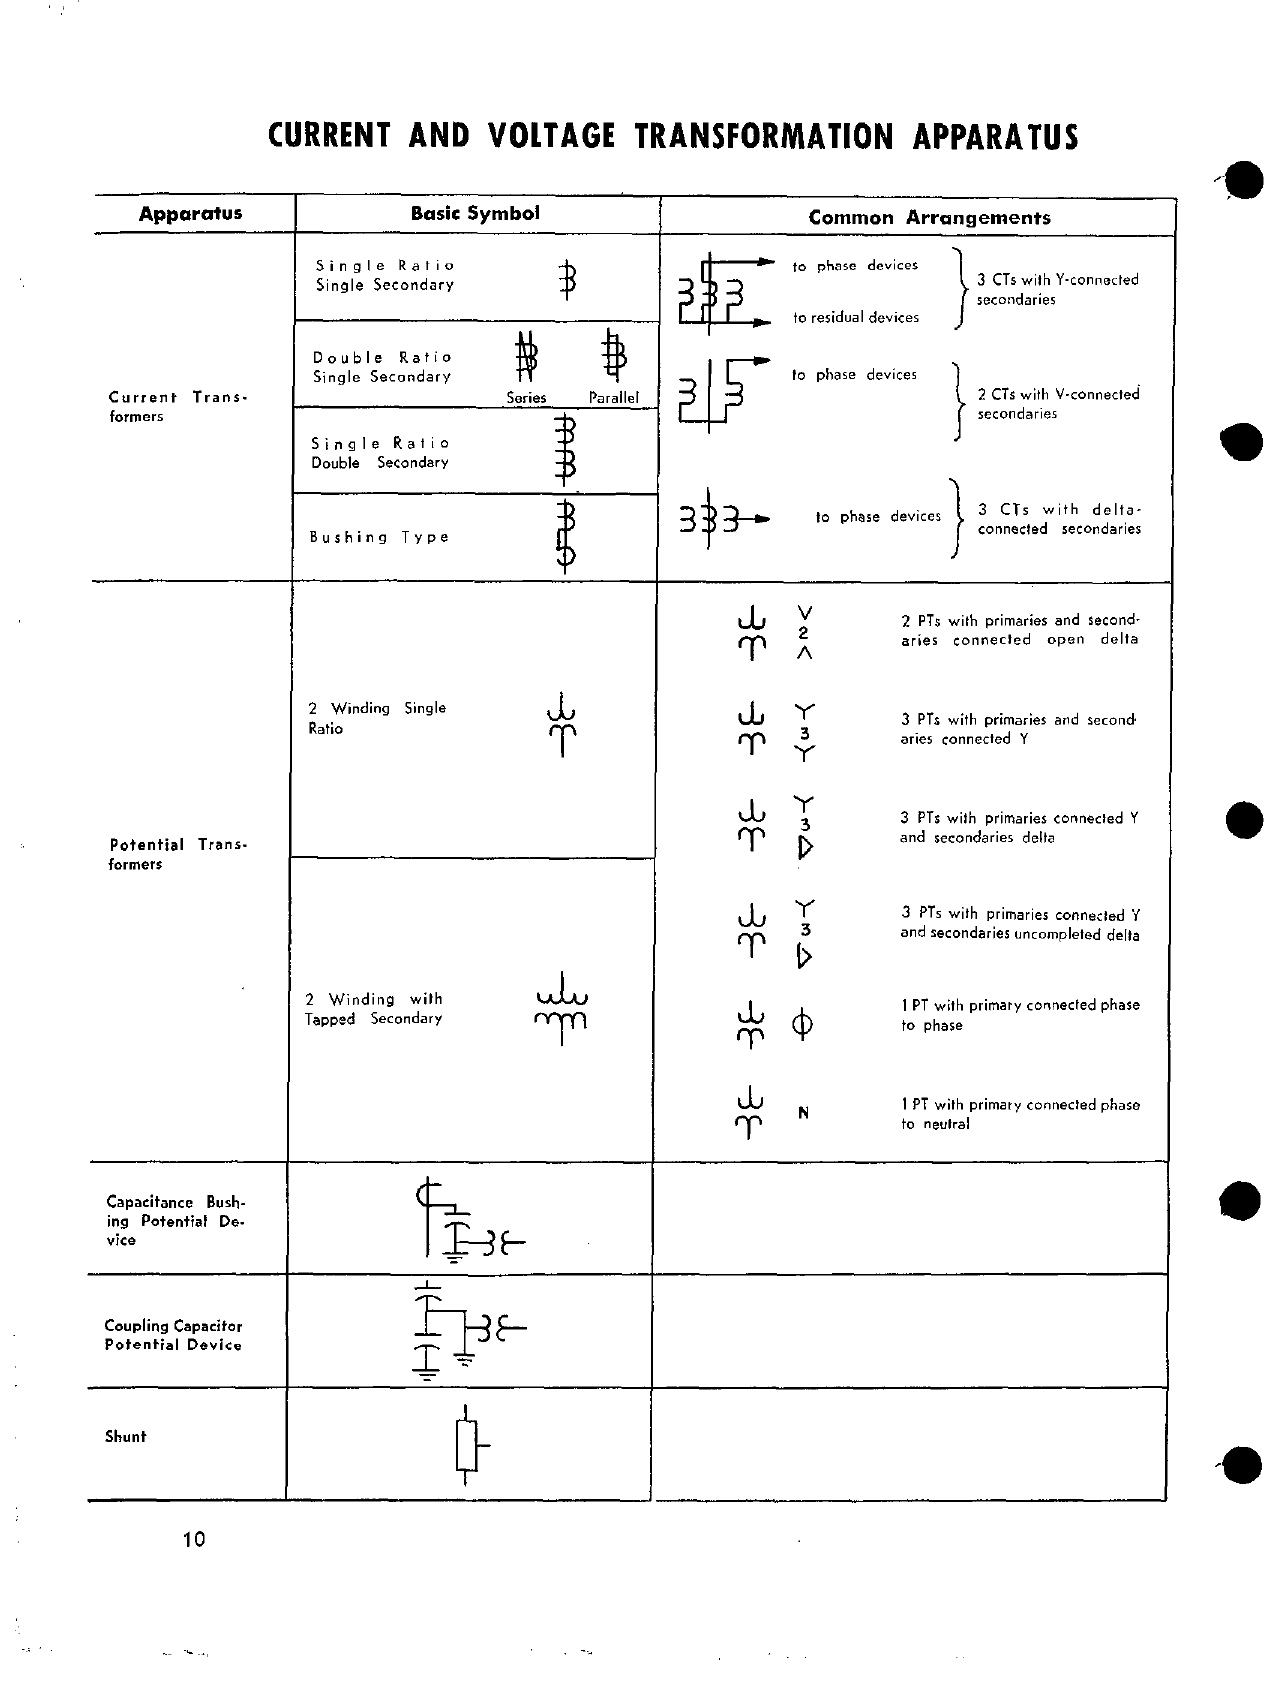ground: (411, 1355, 448, 1386), (442, 1351, 491, 1373), (438, 1243, 472, 1269)
transformer: (710, 883, 852, 982), (505, 948, 603, 1082), (712, 787, 839, 883), (725, 985, 840, 1081), (717, 687, 844, 770), (725, 594, 824, 675), (714, 1075, 825, 1146), (515, 682, 601, 771), (471, 1302, 514, 1348), (478, 1219, 524, 1260)
